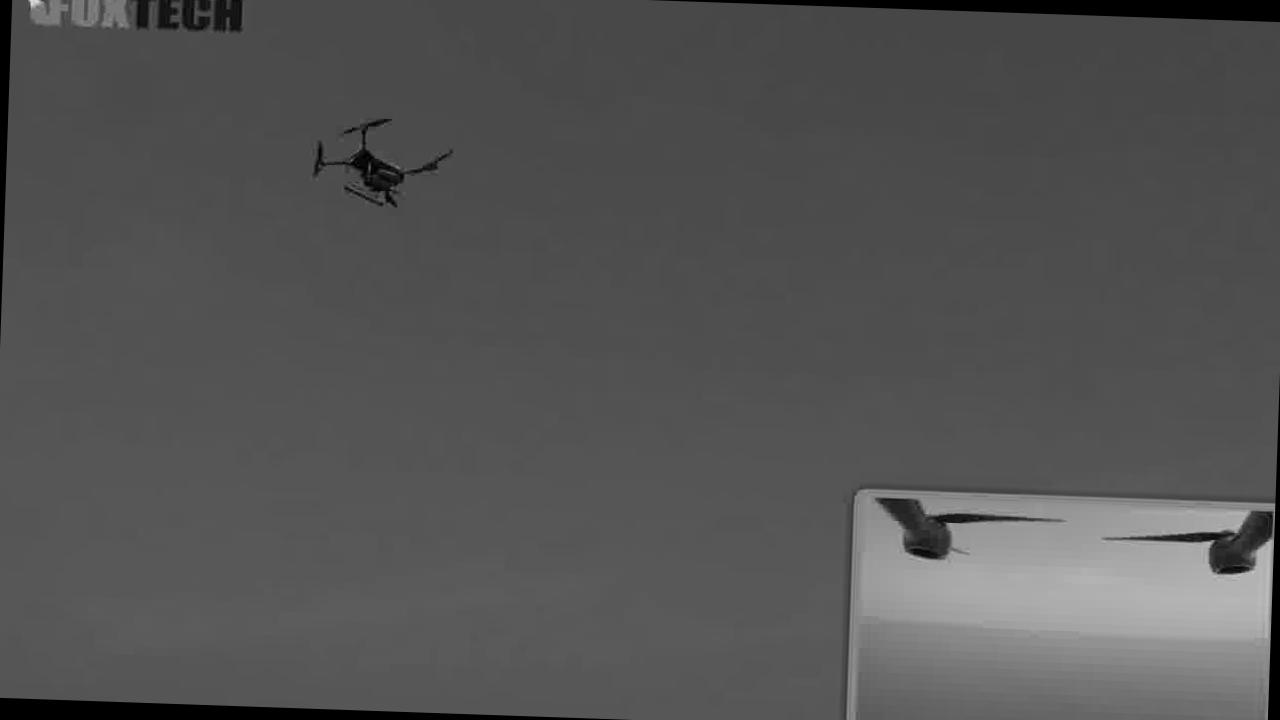drone: (300, 105, 454, 228)
